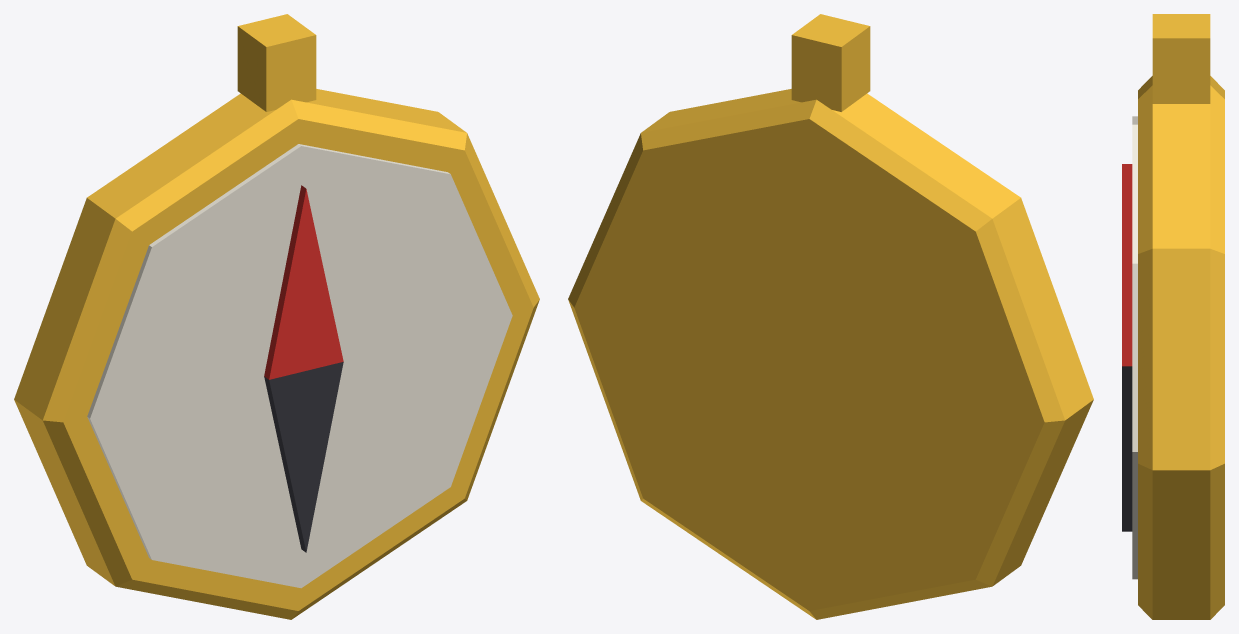
Rendered from BrassCompass.fbx.
3 views of the same model, side by side, from view 1: azimuth 30°, elevation 25°; view 2: azimuth 150°, elevation 25°; view 3: azimuth 270°, elevation 25° (orthographic).
Parts seen in each view (by area): view 1: BrassCompass; view 2: BrassCompass; view 3: BrassCompass.
Part boxes in pixels (box(x1,y1,x2,y2)): BrassCompass: box(14, 14, 539, 619); BrassCompass: box(568, 14, 1093, 619); BrassCompass: box(1122, 14, 1224, 619).
Size of the model in its own units: 2 by 2.22 by 0.355.
1 material, 1 textured.
